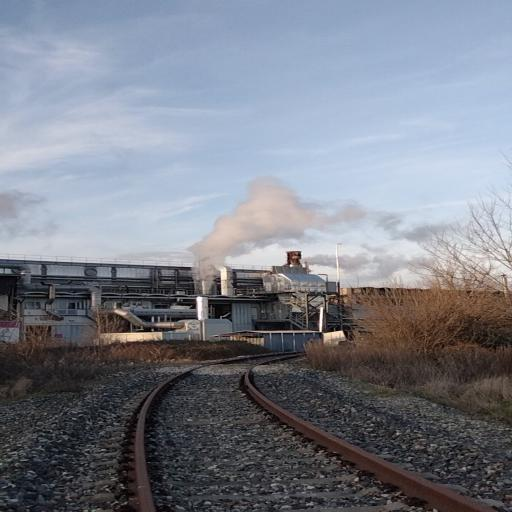leakage: (175, 169, 480, 298), (273, 241, 464, 286)
